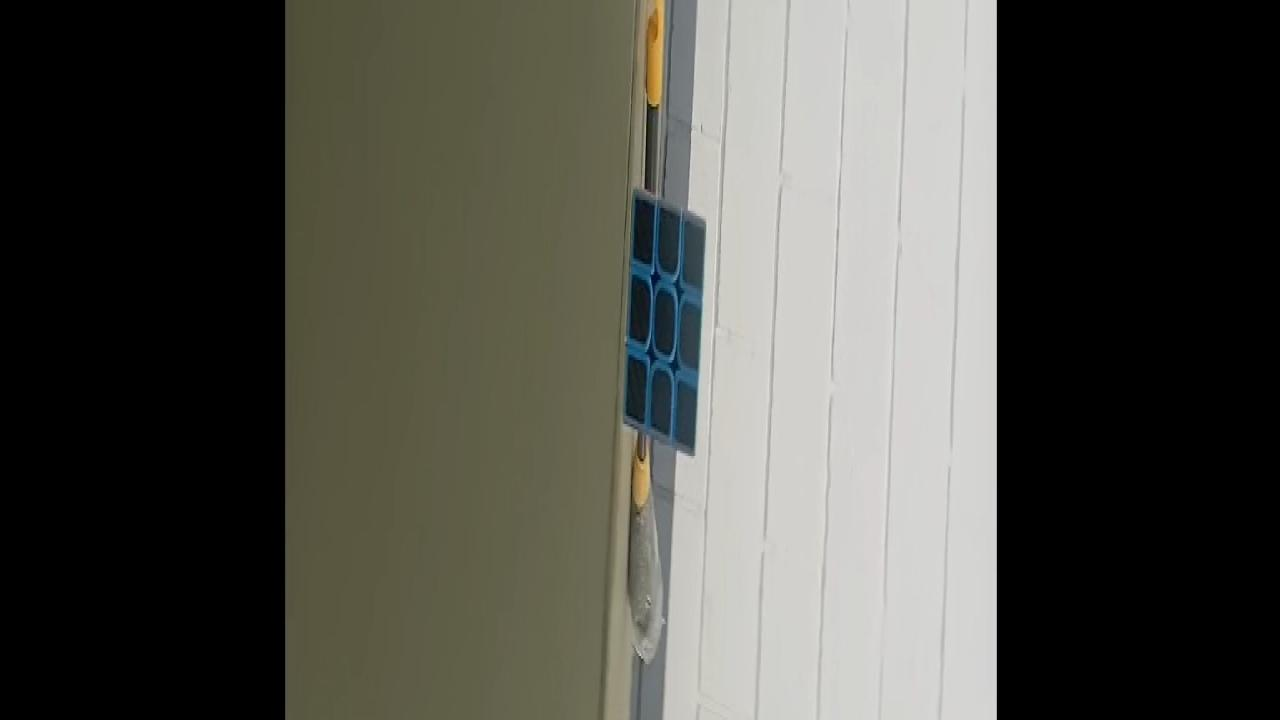Cube: (621, 182, 707, 456)
